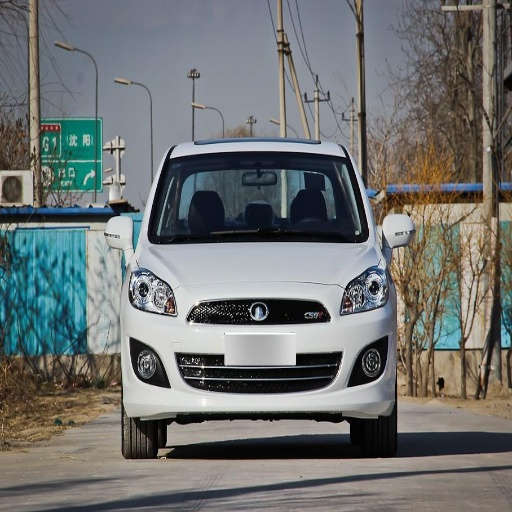front_bumper: (125, 283, 396, 418)
front_right_light: (128, 267, 176, 316)
hood: (139, 241, 377, 299)
